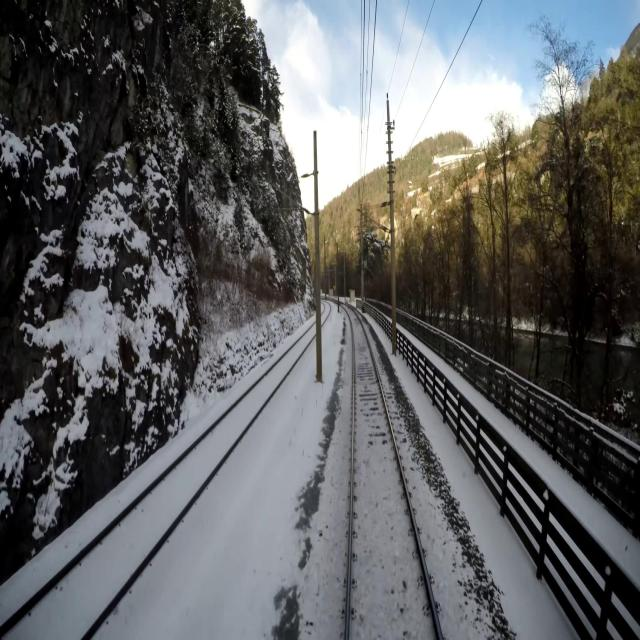rail-track: (1, 324, 316, 639), (343, 305, 439, 639)
